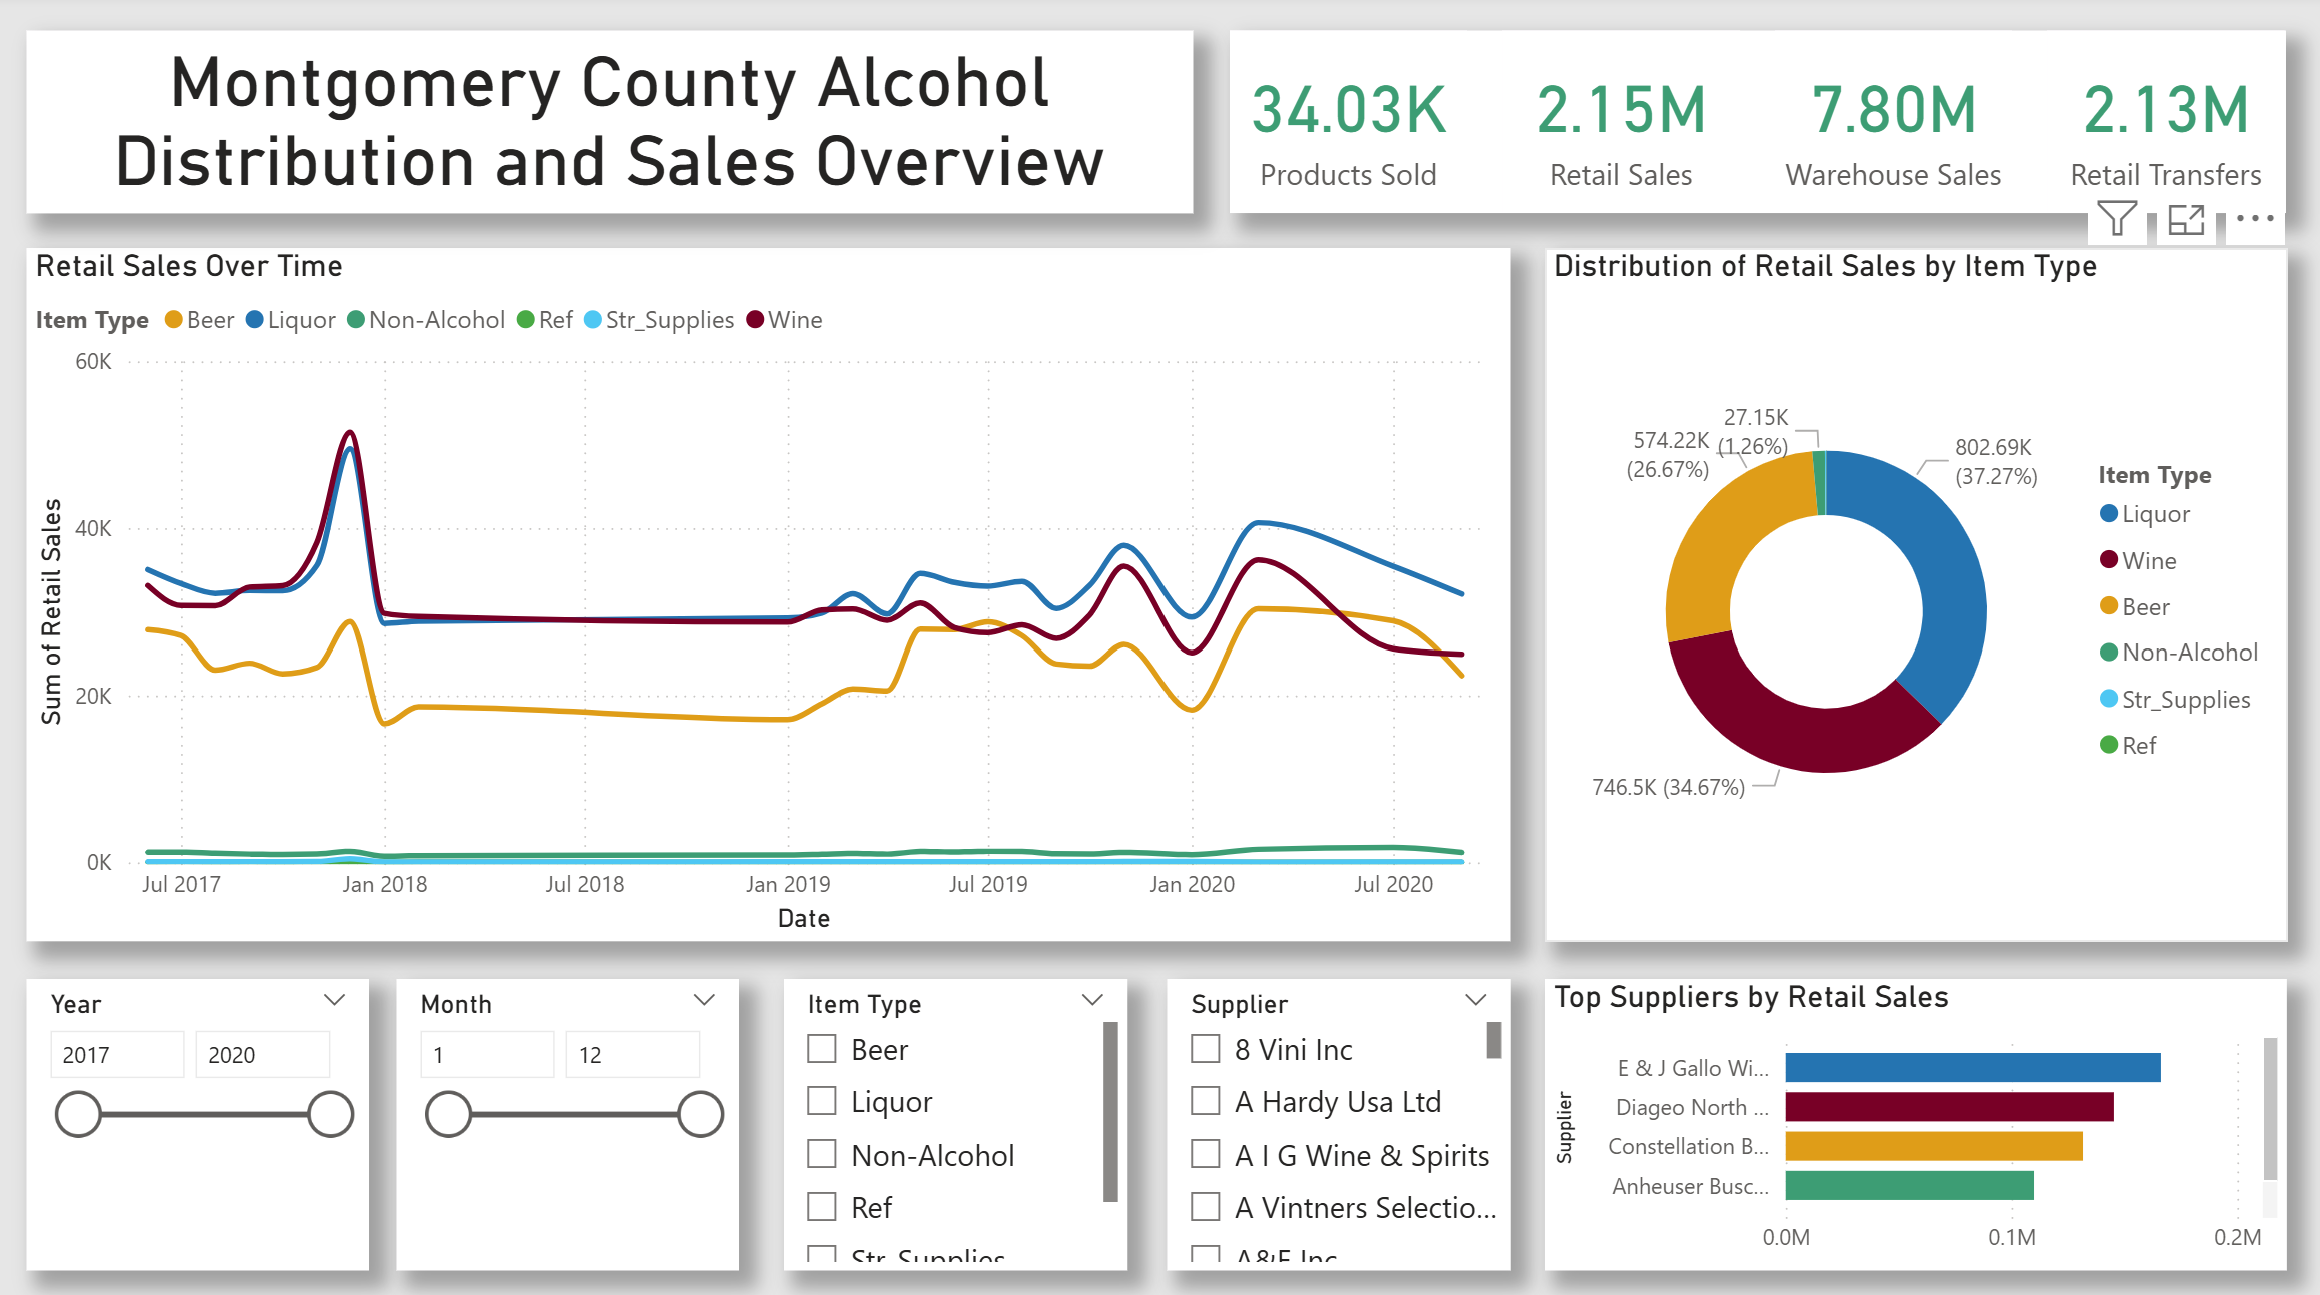

Layout of this report page (visuals, bound fields, positions):
{"tool":"powerbi","page":{"name":"Executive Summary","canvas":[1280,720],"ordinal":0},"visuals":[{"type":"shape","box":[680,20.2,579.8,100.2],"z":0},{"type":"lineChart","title":"Retail Sales Over Time","fields":{"Y":["Sum(cleaned_alcohol_sales.retail_sales)"],"Series":["cleaned_alcohol_sales.item_type"],"Category":["cleaned_alcohol_sales.date.Variation.Date Hierarchy.Year","cleaned_alcohol_sales.date.Variation.Date Hierarchy.Quarter","cleaned_alcohol_sales.date.Variation.Date Hierarchy.Month","cleaned_alcohol_sales.date.Variation.Date Hierarchy.Day"]},"box":[20.2,139.9,814,380],"z":1000},{"type":"textbox","box":[20.2,20.2,640,100.2],"z":2000},{"type":"card","fields":{"Values":["Count(cleaned_alcohol_sales.item_code)"]},"box":[680,20.3,130,100.1],"z":3000},{"type":"card","fields":{"Values":["Sum(cleaned_alcohol_sales.retail_sales)"]},"box":[830,20.3,130.2,100.1],"z":4000},{"type":"card","fields":{"Values":["Sum(cleaned_alcohol_sales.retail_transfers)"]},"box":[1130,20.3,130,100.1],"z":5000},{"type":"card","fields":{"Values":["Sum(cleaned_alcohol_sales.warehouse_sales)"]},"box":[980,20.3,130,100.1],"z":6000},{"type":"donutChart","title":"Distribution of Retail Sales by Item Type","fields":{"Y":["Sum(cleaned_alcohol_sales.retail_sales)"],"Category":["cleaned_alcohol_sales.item_type"]},"box":[853.8,139.9,406.7,380],"z":7000},{"type":"slicer","fields":{"Values":["cleaned_alcohol_sales.year"]},"box":[20.2,540,188,160.1],"z":8000},{"type":"slicer","fields":{"Values":["cleaned_alcohol_sales.month"]},"box":[223.2,540.4,187.9,159.9],"z":9000},{"type":"slicer","fields":{"Values":["cleaned_alcohol_sales.item_type"]},"box":[436,540.1,188.2,160.1],"z":10000},{"type":"slicer","fields":{"Values":["cleaned_alcohol_sales.supplier"]},"box":[646.1,540.1,188.2,160.1],"z":11000},{"type":"barChart","title":"Top Suppliers by Retail Sales","fields":{"Y":["Sum(cleaned_alcohol_sales.retail_sales)"],"Category":["cleaned_alcohol_sales.supplier"]},"box":[854,540,407,160],"z":12000}]}

Visuals, with their boxes in screenshot pixels (x1, y1, x2, y2), scaled from the page's 1280x720 canvas onto the 2320x1295 screenshot:
shape: {"left": 1232, "top": 36, "right": 2283, "bottom": 217}
"Retail Sales Over Time" lineChart: {"left": 37, "top": 252, "right": 1512, "bottom": 935}
textbox: {"left": 37, "top": 36, "right": 1197, "bottom": 217}
card - Count(cleaned_alcohol_sales.item_code): {"left": 1232, "top": 37, "right": 1468, "bottom": 217}
card - Sum(cleaned_alcohol_sales.retail_sales): {"left": 1504, "top": 37, "right": 1740, "bottom": 217}
card - Sum(cleaned_alcohol_sales.retail_transfers): {"left": 2048, "top": 37, "right": 2284, "bottom": 217}
card - Sum(cleaned_alcohol_sales.warehouse_sales): {"left": 1776, "top": 37, "right": 2012, "bottom": 217}
"Distribution of Retail Sales by Item Type" donutChart: {"left": 1548, "top": 252, "right": 2285, "bottom": 935}
slicer - cleaned_alcohol_sales.year: {"left": 37, "top": 971, "right": 377, "bottom": 1259}
slicer - cleaned_alcohol_sales.month: {"left": 405, "top": 972, "right": 745, "bottom": 1260}
slicer - cleaned_alcohol_sales.item_type: {"left": 790, "top": 971, "right": 1131, "bottom": 1259}
slicer - cleaned_alcohol_sales.supplier: {"left": 1171, "top": 971, "right": 1512, "bottom": 1259}
"Top Suppliers by Retail Sales" barChart: {"left": 1548, "top": 971, "right": 2286, "bottom": 1259}
